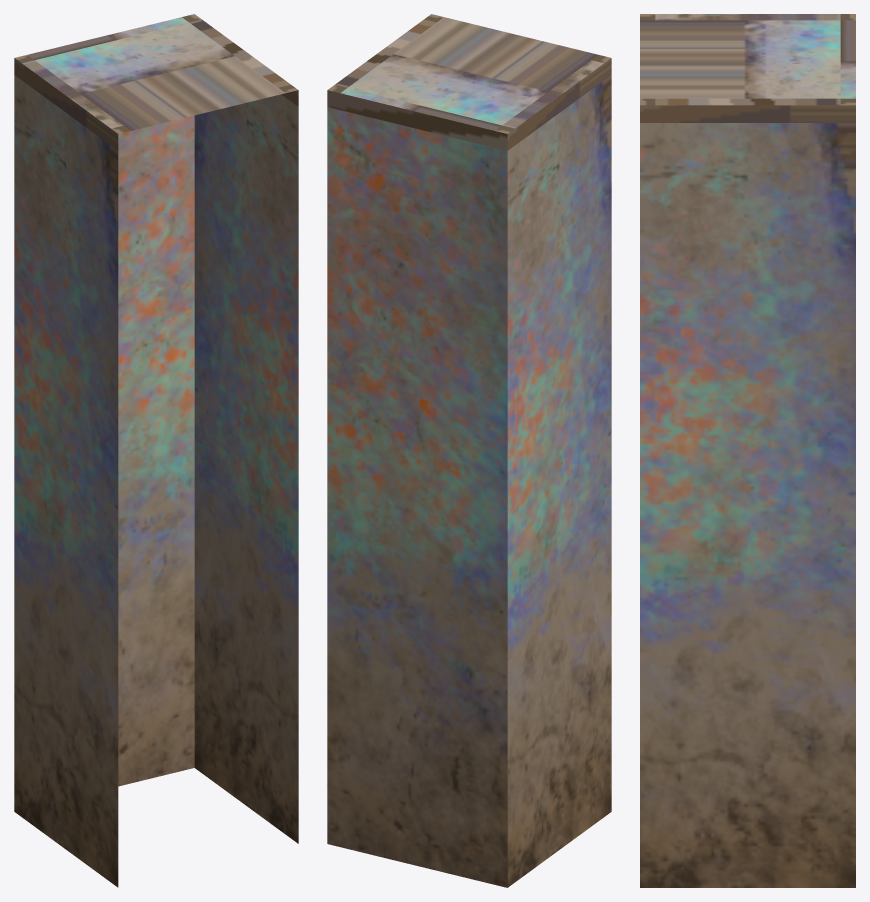
File: SbS_LDK_Pocket.fbx
3 renders of one model, left to right at view 1: azimuth 30°, elevation 25°; view 2: azimuth 150°, elevation 25°; view 3: azimuth 270°, elevation 25°, orthographic. The views are drawn at different scales.
Visible parts, largest first — view 1: LDK_Pocket; view 2: LDK_Pocket; view 3: LDK_Pocket.
Part boxes in pixels (x1=…): LDK_Pocket: x1=14, y1=14, x2=298, y2=887; LDK_Pocket: x1=327, y1=14, x2=611, y2=887; LDK_Pocket: x1=640, y1=14, x2=855, y2=887.
Bounding box in the file's own units: 250 × 1000 × 250.
